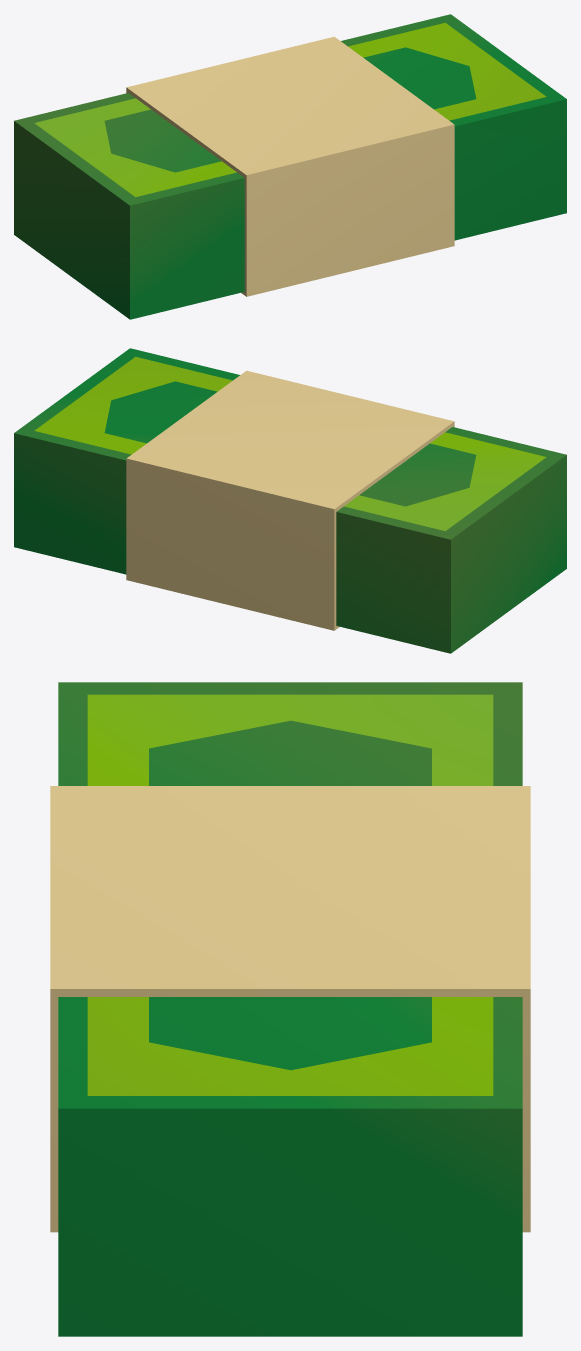
File: Cash.fbx
The picture shows the model from 3 angles, top to bottom: view 1: azimuth 30°, elevation 25°; view 2: azimuth 150°, elevation 25°; view 3: azimuth 270°, elevation 25°; orthographic projection. The views are drawn at different scales.
Visible parts, largest first — view 1: Cash; view 2: Cash; view 3: Cash.
Part boxes in pixels (box(x1,y1,x2,y2)): Cash: box(14, 14, 566, 319); Cash: box(14, 348, 566, 653); Cash: box(50, 682, 530, 1336).
Size of the model in its own units: 34.34 by 9.13 by 16.35.
